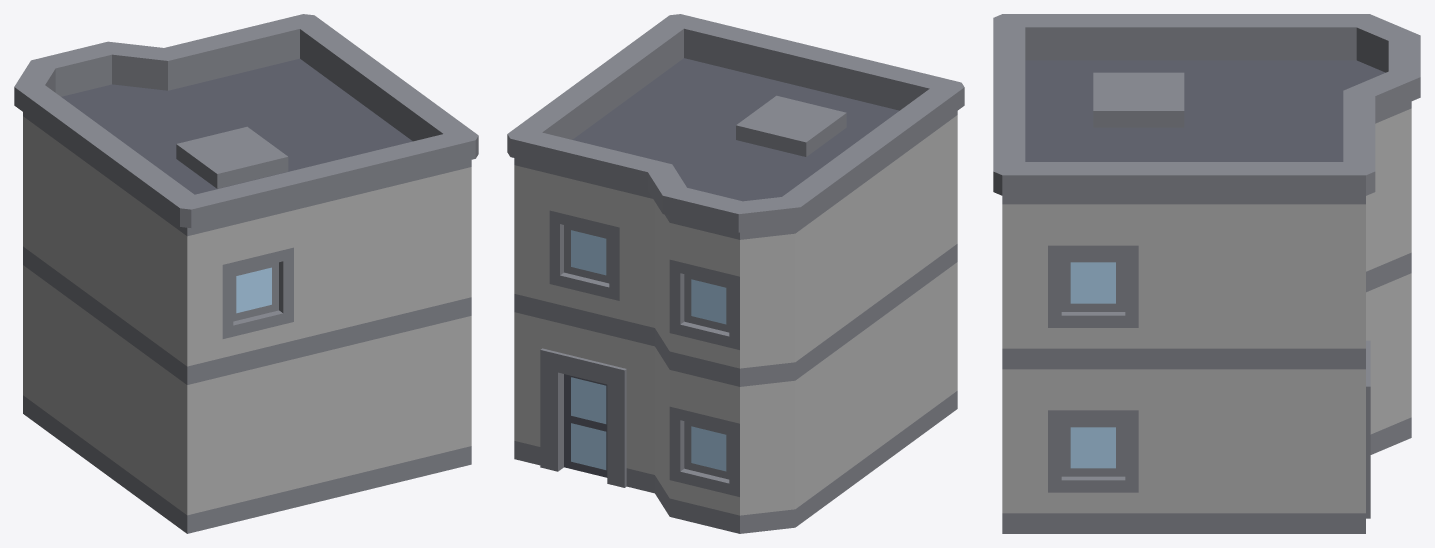
Rendered from small_buildingB.dae.
The picture shows the model from 3 angles, left to right: view 1: azimuth 30°, elevation 25°; view 2: azimuth 150°, elevation 25°; view 3: azimuth 270°, elevation 25°; orthographic projection. The views are drawn at different scales.
Parts seen in each view (by area): view 1: small_buildingB; view 2: small_buildingB; view 3: small_buildingB.
Boxes of the visible parts, x1,y1,x2,y2 form: small_buildingB: [14, 14, 478, 533]; small_buildingB: [507, 14, 964, 533]; small_buildingB: [993, 14, 1420, 533].
Size of the model in its own units: 0.84 by 0.88 by 0.94.
